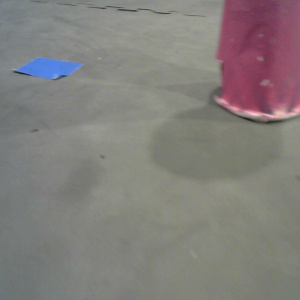right: (212, 1, 300, 124)
